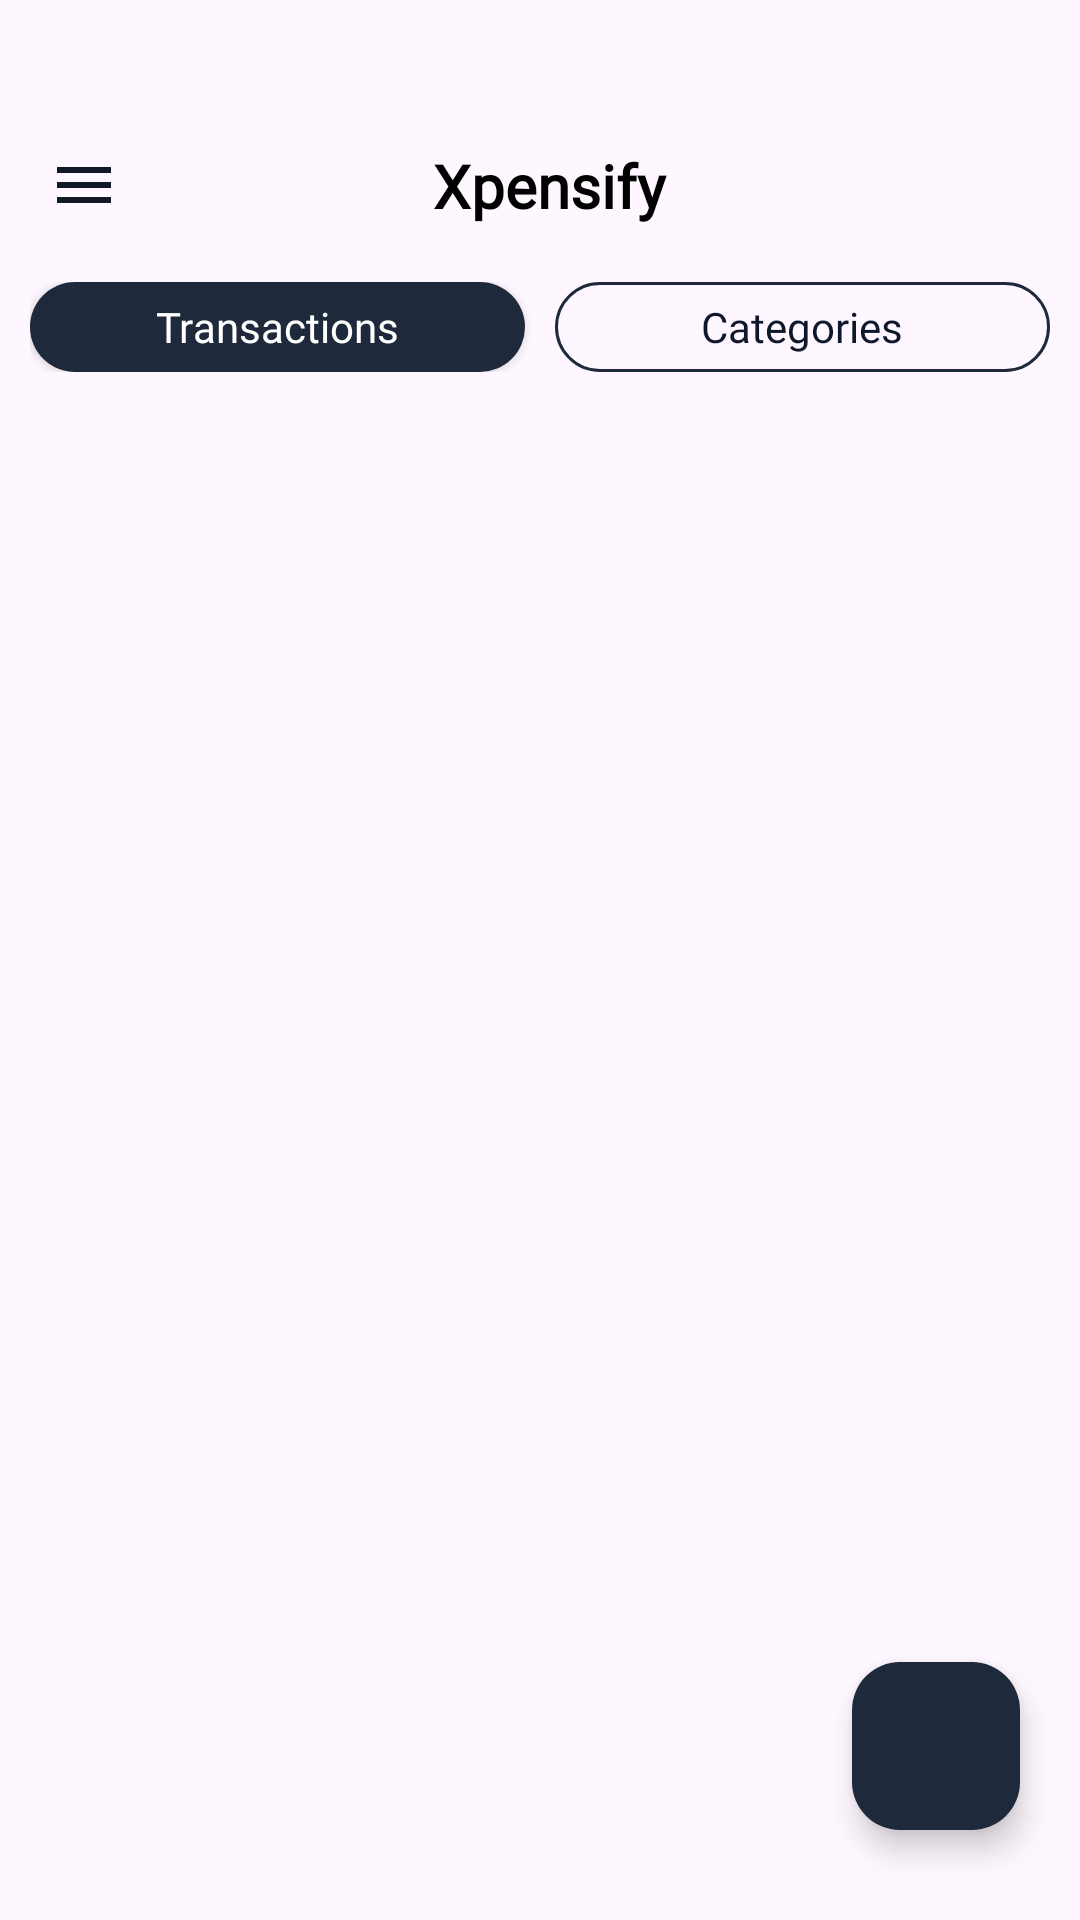

Point at icon controls on the screen. Image size 1080x1920, points as point (x, y).
burger menu: point (84, 185)
